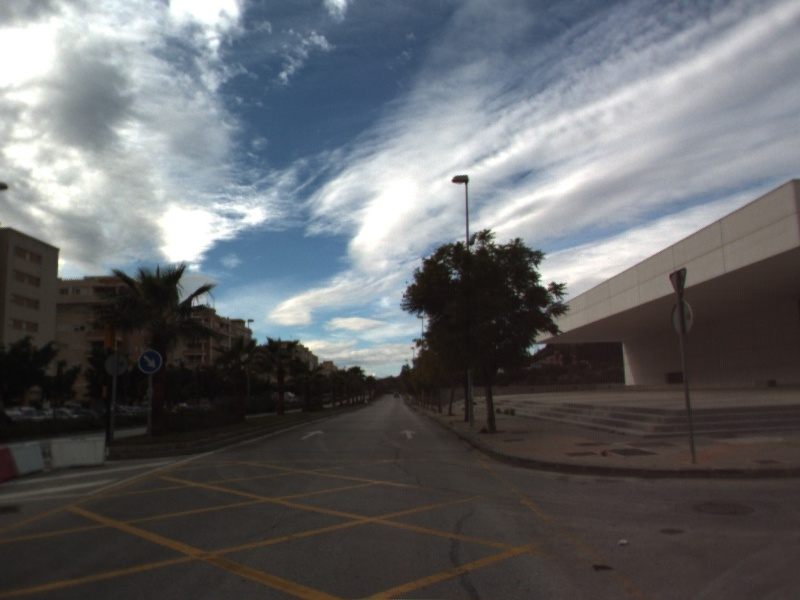STRAIGHT: (299, 428, 326, 441), (398, 427, 419, 441)
